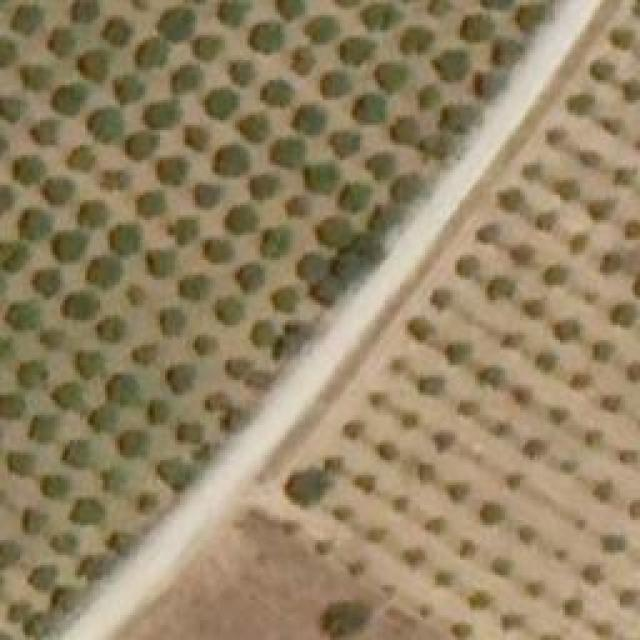Tree: (322, 598, 370, 633), (345, 230, 384, 261), (275, 323, 308, 358), (160, 8, 195, 38), (290, 473, 325, 503), (333, 250, 365, 282), (308, 163, 341, 193), (318, 217, 353, 245), (160, 460, 193, 488), (88, 257, 121, 285), (55, 230, 85, 260), (90, 110, 120, 140), (63, 293, 98, 318), (110, 375, 138, 405), (20, 210, 50, 238), (215, 145, 245, 173), (55, 83, 83, 113), (15, 5, 45, 33), (220, 0, 250, 28), (305, 15, 335, 43), (295, 105, 325, 133), (7, 302, 35, 330), (255, 22, 283, 50), (377, 62, 405, 90), (405, 315, 433, 343), (440, 108, 478, 128), (343, 38, 376, 61), (113, 225, 138, 255), (168, 218, 198, 243), (140, 40, 170, 65), (355, 95, 385, 120), (463, 15, 493, 40), (403, 28, 433, 53), (495, 188, 525, 213), (478, 500, 508, 525), (35, 267, 60, 295), (0, 243, 28, 268), (228, 205, 253, 233), (157, 158, 185, 183), (147, 103, 175, 128), (207, 90, 235, 115), (115, 78, 143, 103), (80, 52, 105, 80), (342, 183, 370, 208), (300, 255, 328, 280), (365, 5, 400, 25), (440, 52, 465, 80), (477, 365, 505, 390), (73, 498, 106, 518), (30, 418, 58, 441), (40, 475, 68, 498), (15, 158, 43, 181), (53, 27, 76, 55), (322, 73, 350, 96), (372, 205, 400, 228), (495, 40, 523, 63), (445, 343, 473, 366), (552, 320, 580, 343), (80, 557, 115, 575), (28, 565, 53, 590), (93, 405, 118, 430), (55, 383, 80, 408), (75, 353, 100, 378), (123, 433, 148, 458), (170, 365, 195, 390), (238, 265, 263, 290), (80, 200, 105, 225), (263, 230, 288, 255), (70, 145, 95, 170), (275, 140, 300, 165), (488, 275, 513, 300), (423, 135, 453, 155), (550, 178, 580, 198), (418, 375, 448, 395), (465, 588, 495, 608), (28, 613, 51, 638), (23, 508, 46, 533), (20, 363, 45, 386), (0, 395, 25, 418), (63, 443, 88, 466), (150, 250, 173, 275), (218, 298, 241, 323), (130, 133, 155, 156), (173, 68, 198, 91), (45, 178, 70, 201), (0, 98, 25, 121), (333, 130, 358, 153), (568, 90, 593, 113), (598, 250, 623, 273), (613, 303, 638, 326), (7, 453, 35, 473), (22, 68, 50, 88), (392, 178, 420, 198), (587, 200, 615, 220), (100, 315, 123, 338), (243, 115, 266, 138), (268, 80, 291, 103), (455, 255, 478, 278), (378, 440, 401, 463), (448, 483, 471, 506), (403, 545, 426, 568), (0, 542, 18, 570), (595, 115, 623, 133), (567, 372, 595, 390), (420, 517, 448, 535), (40, 330, 65, 350), (183, 278, 208, 298), (205, 240, 230, 260), (73, 0, 98, 20), (295, 48, 315, 73), (395, 118, 415, 143), (518, 5, 543, 25), (590, 60, 615, 80), (510, 245, 535, 265), (535, 350, 560, 370), (398, 410, 423, 430), (615, 448, 640, 468), (560, 457, 581, 479), (53, 533, 76, 553), (163, 310, 183, 333), (273, 288, 296, 308), (253, 323, 273, 346), (198, 185, 221, 205), (185, 125, 205, 148), (230, 60, 250, 83), (108, 20, 128, 43), (370, 155, 393, 175), (320, 275, 340, 298), (478, 75, 501, 95), (610, 28, 633, 48), (613, 165, 636, 185), (533, 210, 556, 230), (520, 300, 543, 320), (510, 385, 530, 408), (593, 340, 616, 360), (343, 420, 366, 440), (353, 473, 376, 493), (323, 455, 346, 475), (248, 370, 273, 388), (543, 267, 568, 285), (0, 180, 15, 210), (0, 37, 15, 65), (8, 602, 31, 620), (105, 532, 128, 550), (102, 468, 120, 491), (138, 195, 161, 213), (498, 330, 521, 348), (598, 395, 621, 413), (583, 427, 606, 445), (435, 428, 453, 451), (388, 495, 411, 513), (457, 538, 475, 561), (490, 557, 513, 575), (53, 588, 73, 608), (253, 175, 273, 195), (35, 123, 55, 143), (200, 38, 220, 58), (290, 195, 310, 215), (568, 233, 588, 253), (430, 288, 450, 308), (393, 358, 413, 378), (435, 568, 455, 588), (416, 600, 434, 622), (178, 425, 203, 440), (228, 363, 253, 378), (600, 535, 625, 550), (429, 0, 452, 16), (150, 400, 168, 420), (135, 345, 155, 363), (105, 170, 125, 188), (545, 127, 565, 145), (580, 150, 600, 168), (550, 405, 570, 423), (455, 400, 475, 418), (505, 473, 523, 493), (563, 600, 583, 618), (583, 565, 603, 583), (525, 440, 545, 458), (500, 613, 523, 628), (140, 492, 158, 510), (420, 87, 438, 105), (622, 82, 640, 100), (367, 390, 385, 408), (417, 465, 435, 483), (367, 525, 385, 543), (347, 560, 365, 578), (595, 480, 613, 498), (380, 580, 400, 596), (208, 395, 228, 410), (280, 0, 300, 15), (523, 163, 543, 178), (478, 225, 498, 240), (333, 505, 353, 520), (450, 623, 470, 638), (627, 359, 640, 382), (225, 410, 240, 428), (197, 338, 215, 353), (625, 220, 640, 238), (493, 420, 508, 438), (520, 525, 535, 543), (527, 583, 545, 598), (315, 540, 333, 555), (595, 620, 610, 638), (630, 498, 640, 523), (195, 443, 210, 458), (283, 520, 298, 535), (620, 590, 635, 605)
